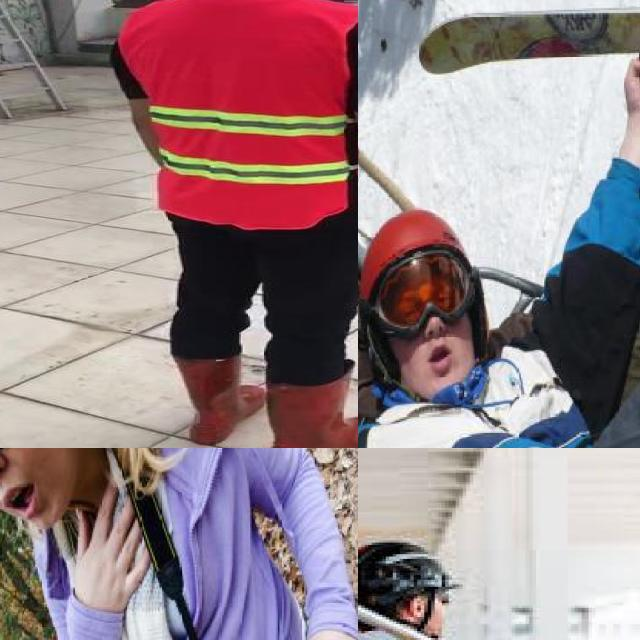boots: (168, 354, 262, 447), (262, 366, 358, 448)
face_nomask: (393, 292, 471, 378), (0, 448, 71, 525)
glasses: (369, 239, 475, 344)
hand_noglove: (53, 489, 166, 595), (286, 615, 358, 640), (617, 43, 640, 114)
head_helmet: (111, 0, 358, 448), (358, 209, 474, 286)
person: (358, 40, 640, 448), (0, 448, 358, 640)
vest: (118, 0, 358, 228)
